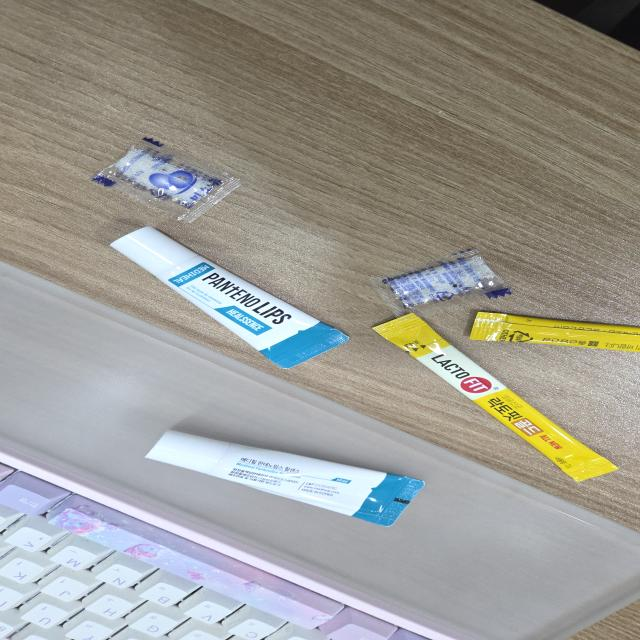lacto: (356, 310, 626, 490), (460, 309, 639, 359)
lip: (82, 220, 359, 377), (128, 416, 433, 535)
salt: (78, 126, 259, 230), (359, 236, 518, 310)
